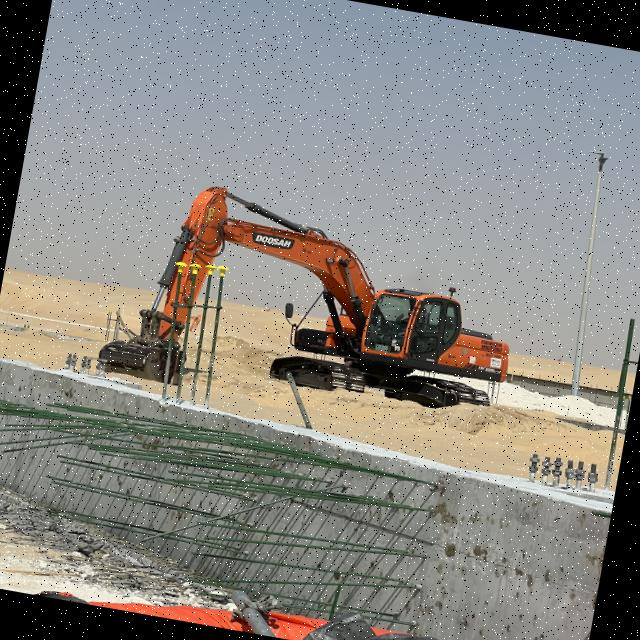Excavator: (92, 167, 530, 443)
